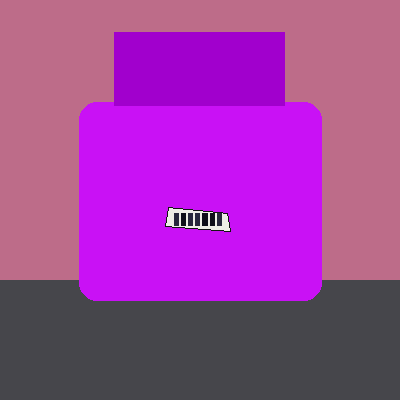licence: (166, 208, 231, 232)
